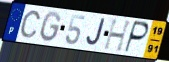5: (64, 14, 86, 46)
C: (18, 10, 42, 39)
G: (39, 10, 62, 44)
H: (102, 18, 134, 53)
J: (85, 17, 106, 48)
P: (123, 20, 151, 55)
